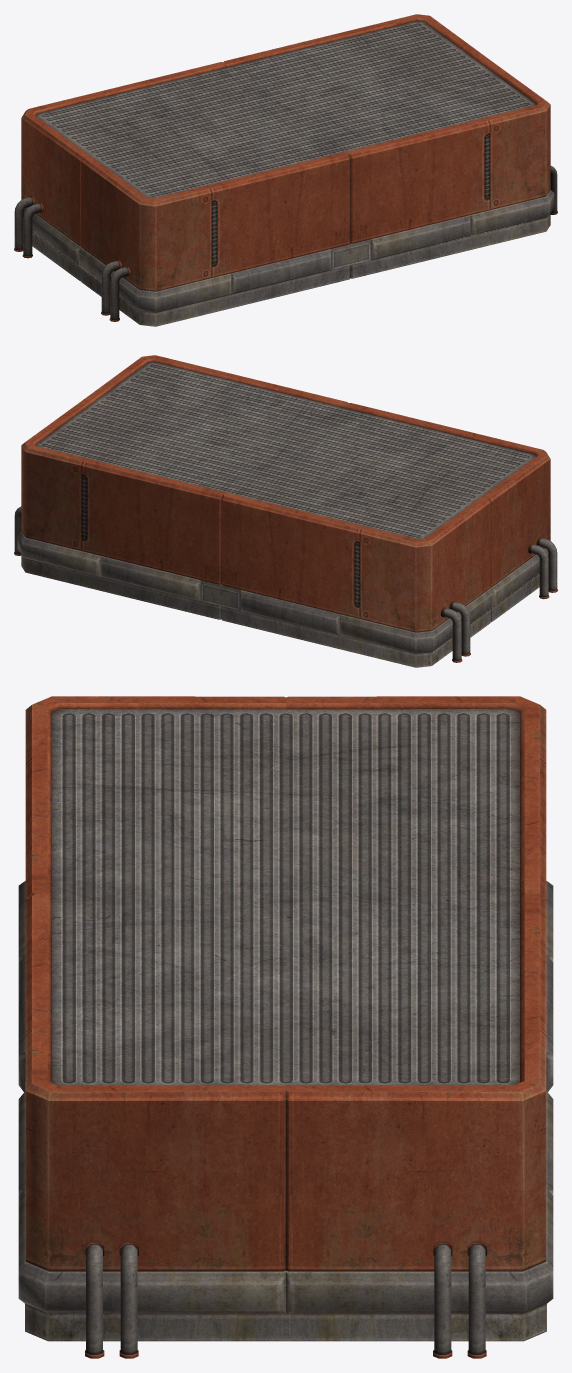
Rendered from tau_airlock_ark_bench.dae.
3 renders of one model, top to bottom at view 1: azimuth 30°, elevation 25°; view 2: azimuth 150°, elevation 25°; view 3: azimuth 270°, elevation 25°, orthographic. The views are drawn at different scales.
Visible parts, largest first — view 1: arkbench; view 2: arkbench; view 3: arkbench.
Part boxes in pixels (x1=…): arkbench: x1=14, y1=14, x2=557, y2=326; arkbench: x1=14, y1=355, x2=557, y2=667; arkbench: x1=18, y1=696, x2=553, y2=1358.
Bounding box in the file's own units: 3.65 × 0.9644 × 1.89.
